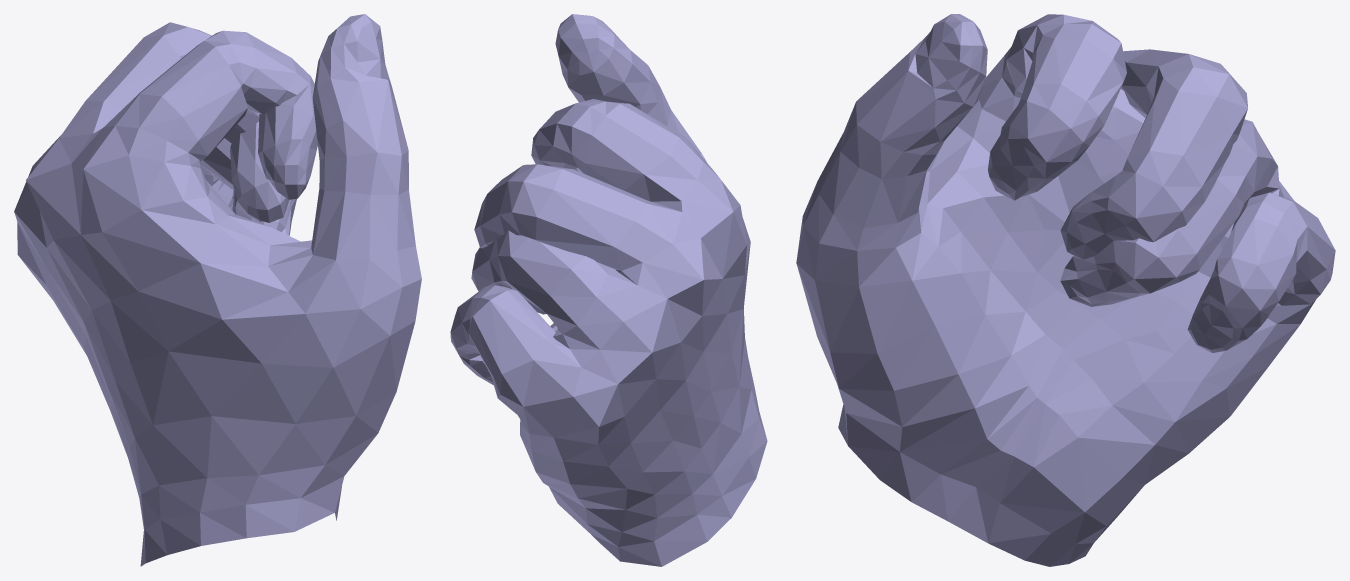
Rendered from frame_0075_source_000075_hand.glb.
3 renders of one model, left to right at view 1: azimuth 30°, elevation 25°; view 2: azimuth 150°, elevation 25°; view 3: azimuth 270°, elevation 25°, orthographic. The views are drawn at different scales.
Parts seen in each view (by area): view 1: world; view 2: world; view 3: world.
Boxes of the visible parts, x1,y1,x2,y2 form: world: [14, 14, 421, 566]; world: [450, 14, 767, 566]; world: [796, 14, 1335, 566].
Size of the model in its own units: 0.0612 by 0.1233 by 0.1017.
